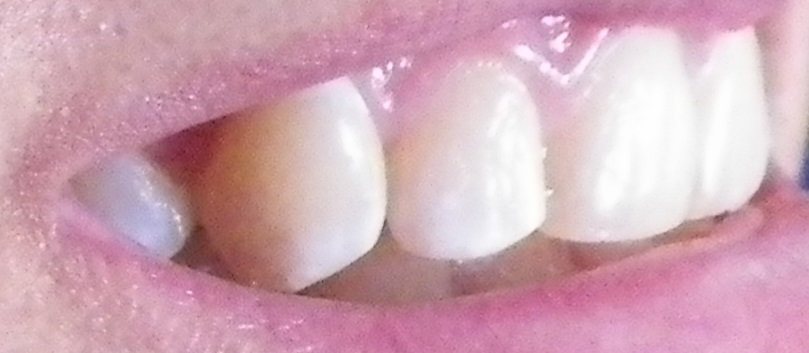boca: (65, 21, 767, 301)
